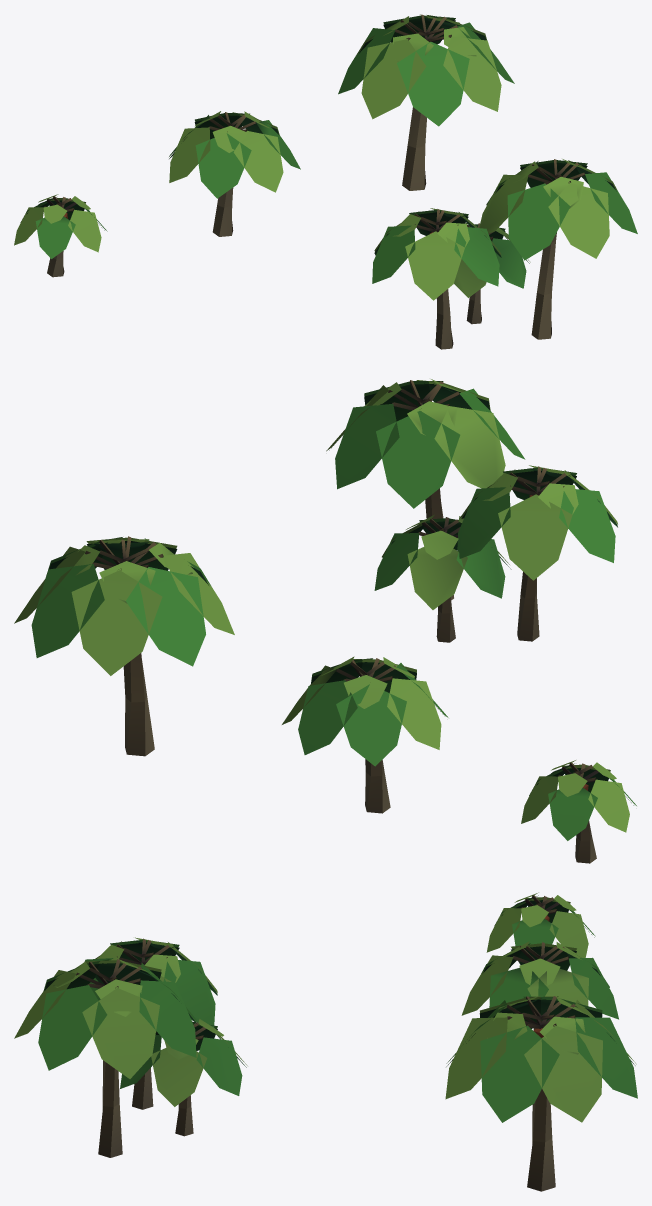
Rendered from palmas_moriche.glb.
3 renders of one model, top to bottom at view 1: azimuth 30°, elevation 25°; view 2: azimuth 150°, elevation 25°; view 3: azimuth 270°, elevation 25°, orthographic. The views are drawn at different scales.
Parts seen in each view (by area): view 1: palm_cluster, palm_moriche_l, palm_moriche_m, palm_moriche_s; view 2: palm_cluster, palm_moriche_l, palm_moriche_m, palm_moriche_s; view 3: palm_cluster, palm_moriche_l, palm_moriche_m, palm_moriche_s.
Part boxes in pixels (bbox=[...]): palm_cluster: bbox=[372, 159, 637, 349]; palm_moriche_l: bbox=[338, 14, 514, 190]; palm_moriche_m: bbox=[169, 111, 300, 236]; palm_moriche_s: bbox=[14, 194, 107, 277]; palm_cluster: bbox=[326, 379, 617, 642]; palm_moriche_l: bbox=[14, 536, 234, 756]; palm_moriche_m: bbox=[282, 656, 448, 813]; palm_moriche_s: bbox=[521, 760, 636, 863]; palm_cluster: bbox=[14, 937, 247, 1157]; palm_moriche_l: bbox=[445, 995, 637, 1191]; palm_moriche_m: bbox=[461, 941, 618, 1029]; palm_moriche_s: bbox=[486, 892, 595, 957].
Bounding box in the file's own units: 40.11 × 13.12 × 38.8.
